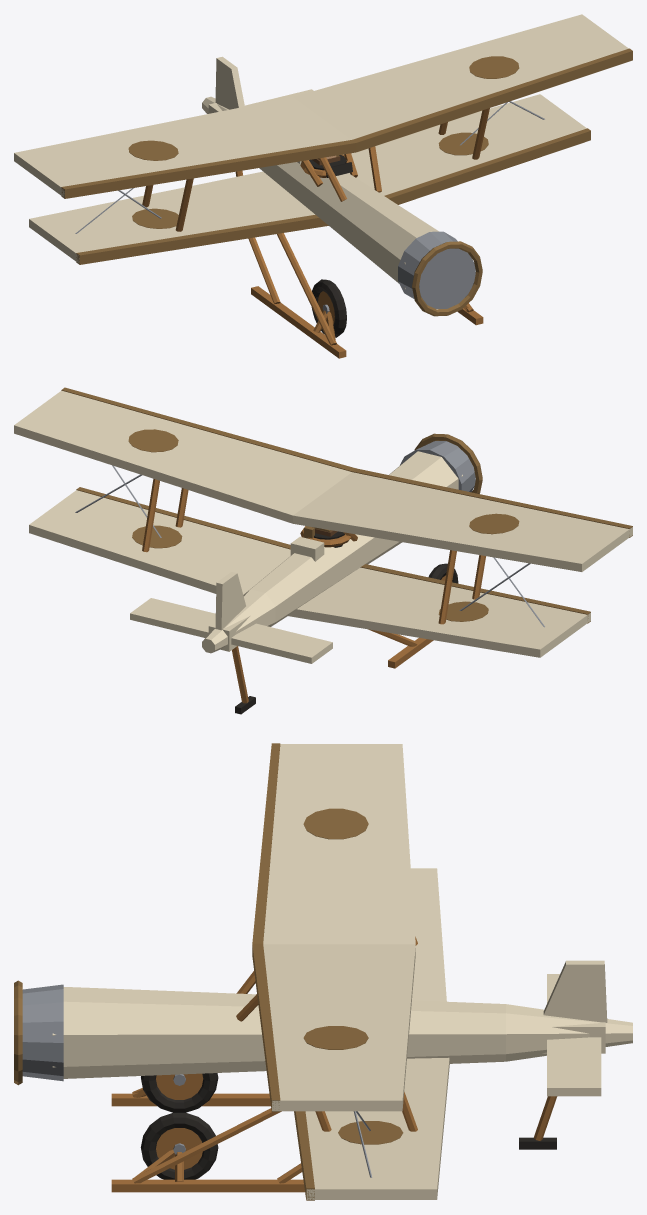
File: body.glb
3 views of the same model, one above another, from view 1: azimuth 30°, elevation 25°; view 2: azimuth 150°, elevation 25°; view 3: azimuth 270°, elevation 25° (orthographic). The views are drawn at different scales.
Visible parts, largest first — view 1: wing_1, wing_0, wing_1_leading_edge, fuselage, wing_0_leading_edge, engine_cowl, cowl_ring, skid_l, vertical_fin, tire, roundel_1_r, skid_strut_l_f (+4 smaller); view 2: wing_1, wing_0, fuselage, horizontal_stabilizer, wing_1_leading_edge, wing_0_leading_edge, tail_cone, engine_cowl, vertical_fin, roundel_1_r, roundel_1_l, roundel_0_r (+6 smaller); view 3: wing_1, fuselage, wing_0, wing_1_leading_edge, engine_cowl, tire (×2), tail_cone, horizontal_stabilizer, vertical_fin, skid_r, rim (×2), roundel_1_l (+6 smaller).
Boxes of the visible parts, x1,y1,x2,y2 form: wing_1: (14,14,628,197); wing_0: (29,94,586,263); wing_1_leading_edge: (61,48,632,198); fuselage: (259,162,438,288); wing_0_leading_edge: (76,128,590,264); engine_cowl: (398,231,475,308); cowl_ring: (412,241,482,316); skid_l: (251,286,346,358); vertical_fin: (215,56,244,109); tire: (311,279,346,337); roundel_1_r: (469,56,519,78); skid_strut_l_f: (277,233,336,345); wing_1: (14,390,632,571); wing_0: (29,490,590,657); fuselage: (246,451,462,626); horizontal_stabilizer: (130,598,332,663); wing_1_leading_edge: (61,387,632,537); wing_0_leading_edge: (76,487,590,623); tail_cone: (202,589,275,653); engine_cowl: (400,441,475,492); vertical_fin: (215,572,245,630); roundel_1_r: (128,429,178,452); roundel_1_l: (469,513,519,534); roundel_0_r: (132,525,182,548); wing_1: (263,744,415,1111); fuselage: (52,987,505,1078); wing_0: (305,868,449,1199); wing_1_leading_edge: (252,743,280,1111); engine_cowl: (22,984,63,1081); tire (×2): (140,1073,218,1179); tail_cone: (506,1004,632,1061); horizontal_stabilizer: (547,974,601,1096); vertical_fin: (543,960,607,1022); skid_r: (111,1179,304,1192); rim (×2): (156,1073,203,1169); roundel_1_l: (303,808,368,839).
Size of the model in its own units: 9.34 by 2.76 by 6.85.
